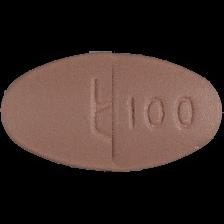63629-4125: (0, 0, 224, 224)
